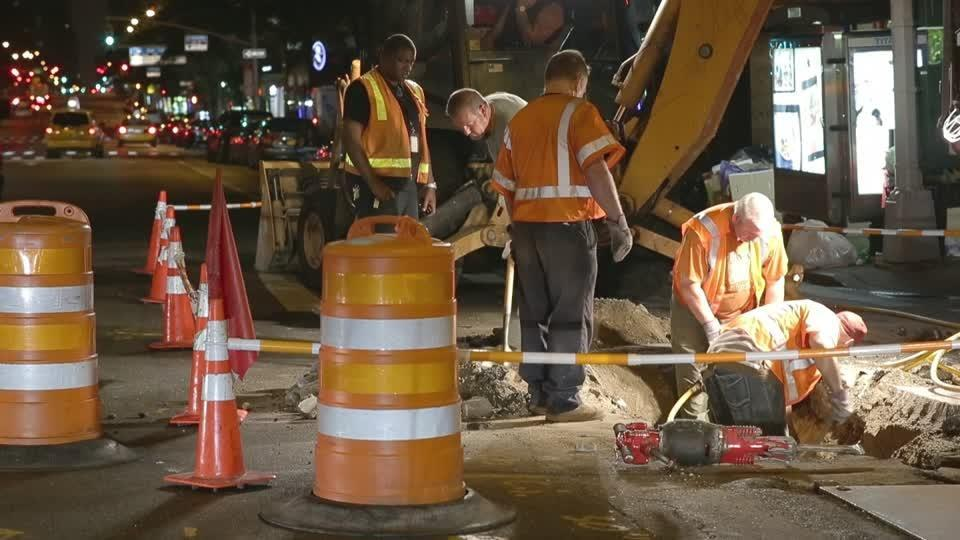no-helmet: (539, 46, 597, 88), (441, 82, 491, 124), (378, 31, 421, 63)
person: (490, 42, 640, 425), (697, 307, 869, 441), (337, 29, 440, 227), (669, 180, 792, 312)
vest: (492, 91, 625, 232), (352, 69, 433, 183), (752, 308, 832, 406)
